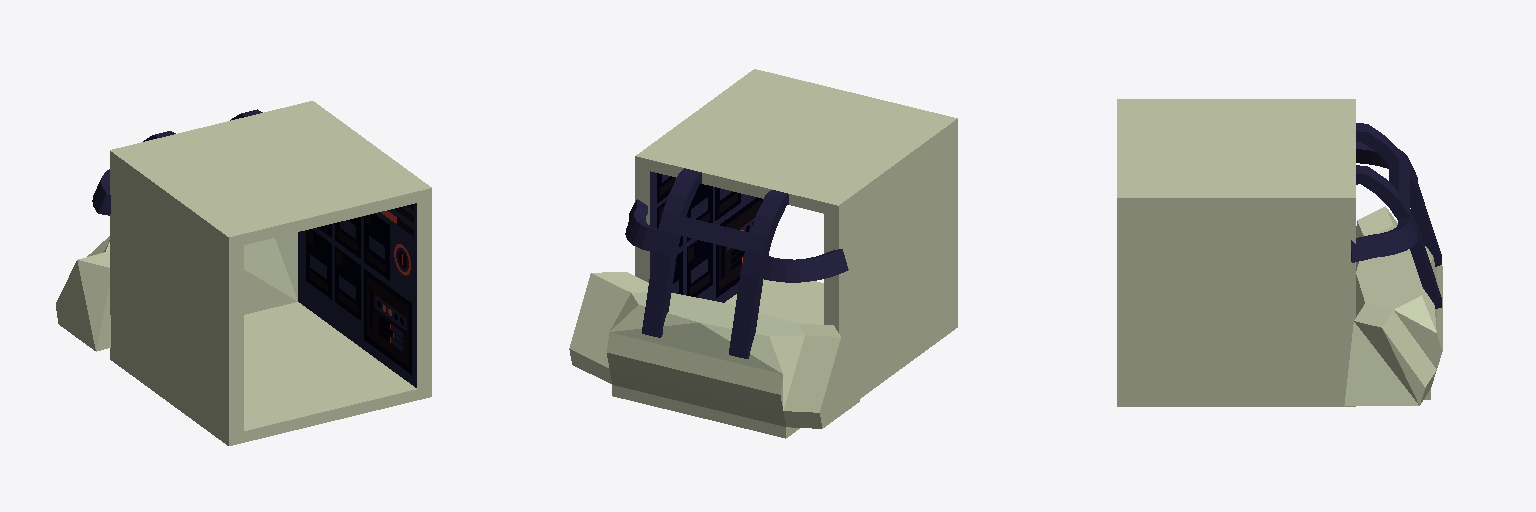
3 renders of one model, left to right at view 1: azimuth 30°, elevation 25°; view 2: azimuth 150°, elevation 25°; view 3: azimuth 270°, elevation 25°, orthographic.
Parts seen in each view (by area): view 1: Cube1; view 2: Cube1; view 3: Cube1.
Boxes of the visible parts, <box> form: Cube1: <box>56,101,431,445</box>; Cube1: <box>569,69,957,438</box>; Cube1: <box>1117,99,1442,406</box>.
Bounding box in the file's own units: 4.25 × 3.37 × 4.75.
Materials: 4 (3 with a texture image).